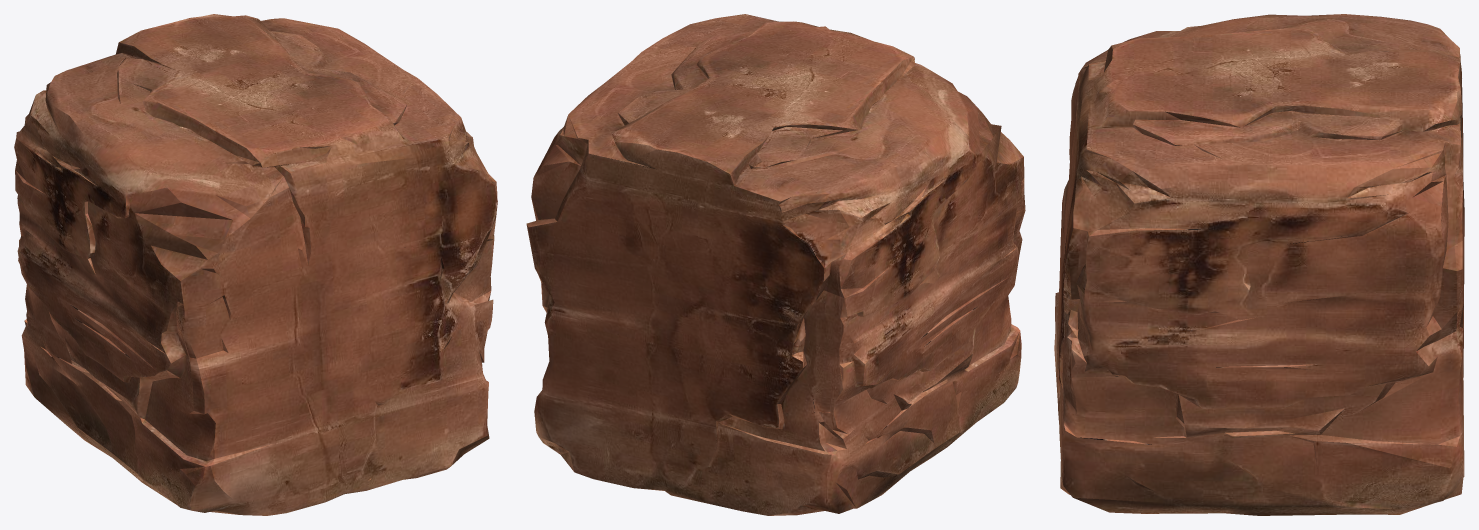
The model's file is boulder_c.glb.
3 renders of one model, left to right at view 1: azimuth 30°, elevation 25°; view 2: azimuth 150°, elevation 25°; view 3: azimuth 270°, elevation 25°, orthographic. The views are drawn at different scales.
Parts seen in each view (by area): view 1: boulder_c; view 2: boulder_c; view 3: boulder_c.
Boxes of the visible parts, left/top/right/bottom form: boulder_c: left=14, top=14, right=497, bottom=515; boulder_c: left=526, top=14, right=1025, bottom=515; boulder_c: left=1054, top=14, right=1464, bottom=515.
Size of the model in its own units: 0.9978 by 0.9983 by 0.9994.
Materials: 1 (1 with a texture image).
